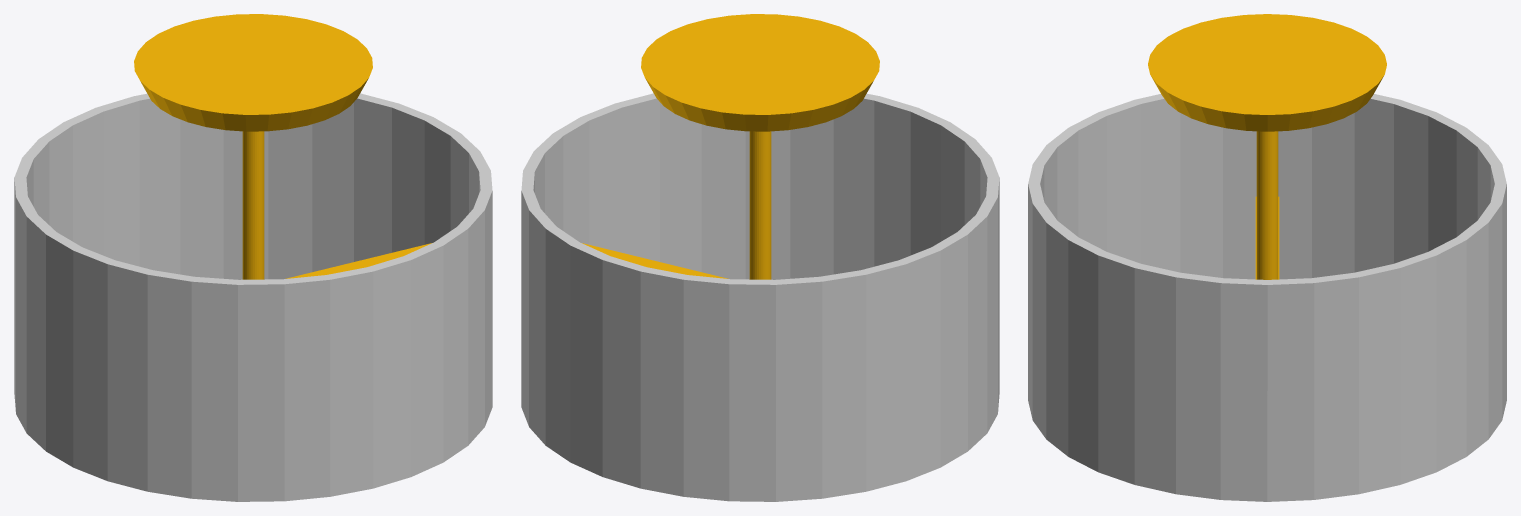
The model's file is CeilingLamp.fbx.
The picture shows the model from 3 angles, left to right: view 1: azimuth 30°, elevation 25°; view 2: azimuth 150°, elevation 25°; view 3: azimuth 270°, elevation 25°; orthographic projection.
Parts seen in each view (by area): view 1: Cylinder; view 2: Cylinder; view 3: Cylinder.
Boxes of the visible parts, x1=… form: Cylinder: x1=14, y1=14, x2=492, y2=501; Cylinder: x1=521, y1=14, x2=999, y2=501; Cylinder: x1=1028, y1=14, x2=1506, y2=501.
Size of the model in its own units: 200 by 155 by 200.
